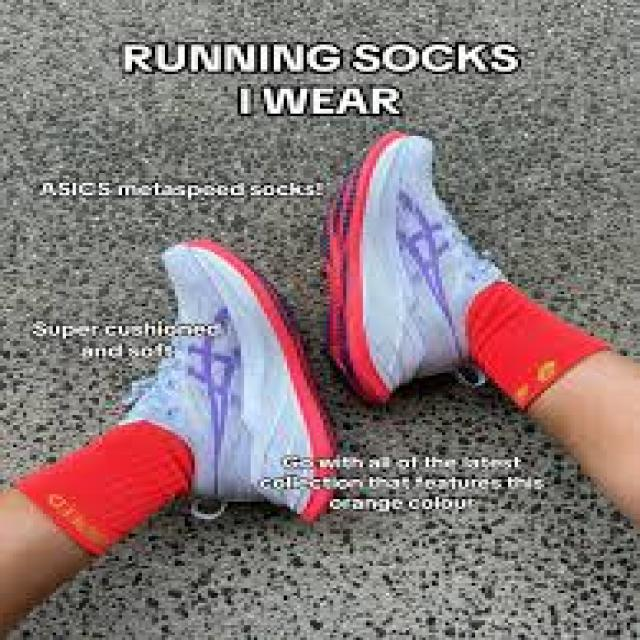asics logo: (173, 297, 265, 495), (376, 174, 470, 360)
sock logo: (18, 422, 192, 563), (470, 282, 606, 413)
